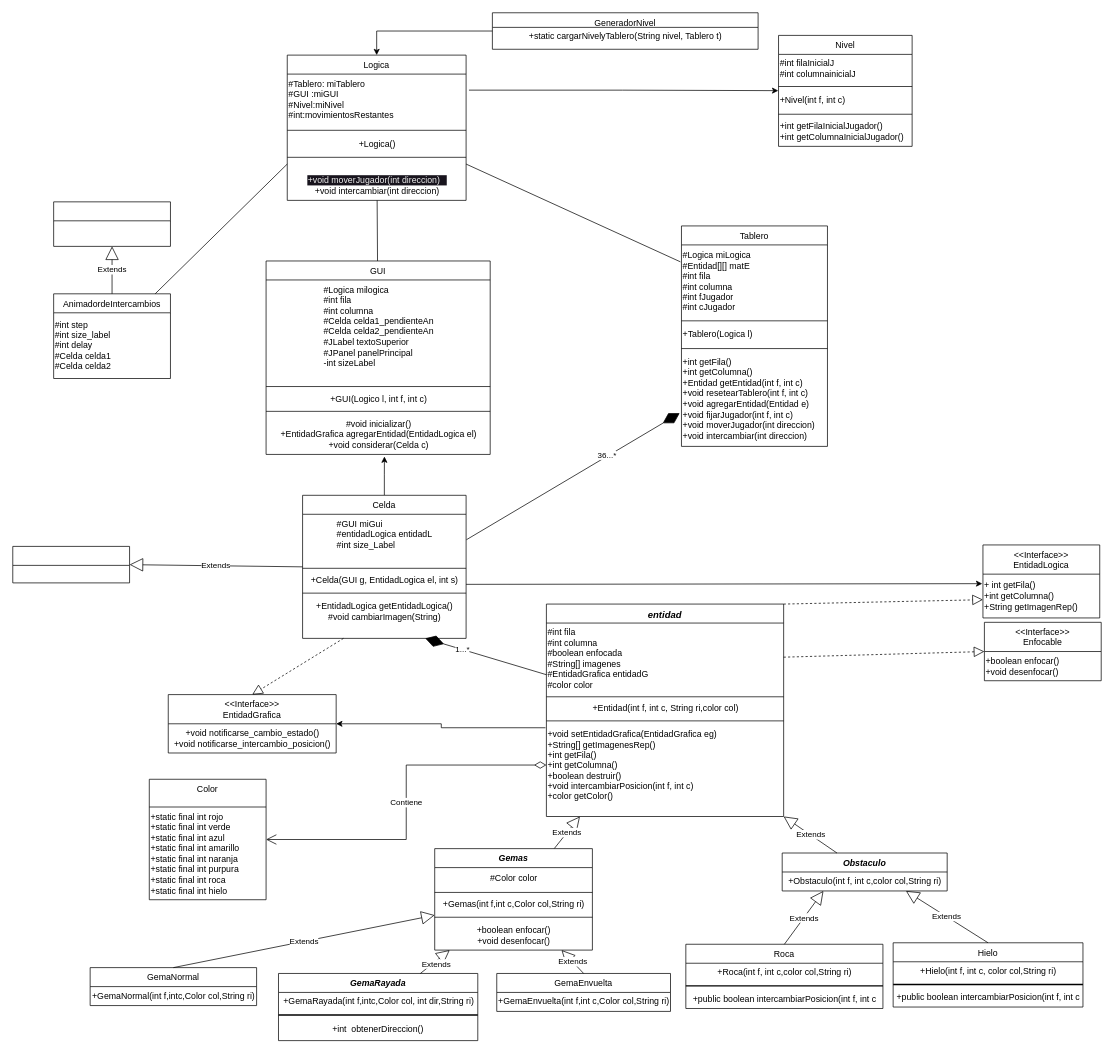
The diagram is 1114 pixels wide and 1053 high, and some of its shapes have lost their labels. The shapes that lost their labels are listed below. From the top down, each one's centre as x and y in pixels, then its label:
At point (111, 223): "Threads".
At point (71, 564): "JLabel".
